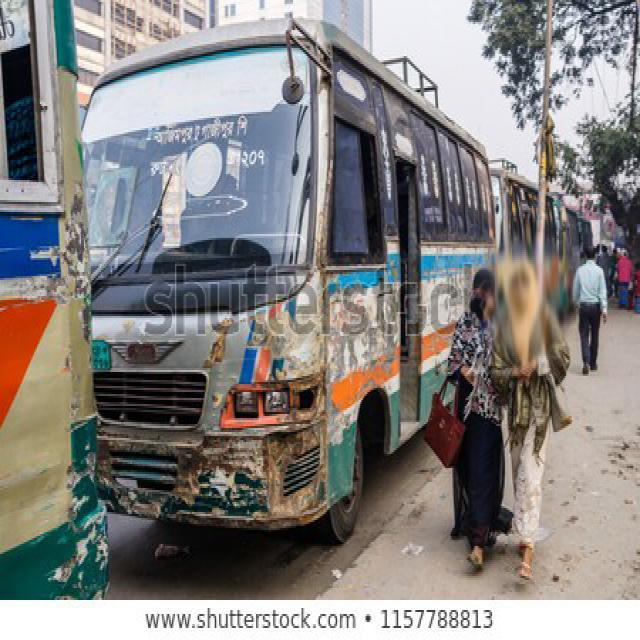bus: (82, 15, 500, 548)
